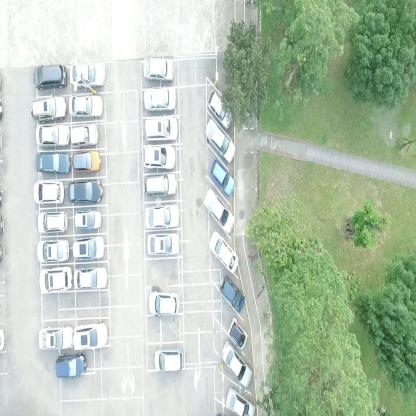car: (202, 187, 235, 234), (221, 341, 252, 388), (204, 118, 236, 162), (208, 231, 240, 274), (71, 320, 108, 350), (206, 88, 233, 128), (30, 94, 67, 123), (208, 158, 235, 196), (219, 275, 245, 313), (69, 61, 105, 88), (38, 324, 74, 351), (36, 236, 70, 264), (67, 178, 103, 204), (224, 386, 256, 415), (143, 170, 177, 197), (39, 265, 73, 292), (35, 122, 70, 148), (73, 265, 108, 291), (144, 204, 180, 229), (142, 143, 176, 169), (143, 86, 177, 112), (148, 290, 180, 317), (34, 62, 66, 89), (72, 235, 105, 261), (144, 115, 178, 140), (69, 94, 103, 119), (36, 209, 68, 235), (54, 352, 86, 378), (35, 152, 70, 175), (32, 180, 65, 204), (70, 122, 98, 150), (154, 346, 184, 372), (72, 149, 100, 176), (146, 233, 180, 255), (227, 316, 248, 350), (143, 59, 174, 82), (74, 210, 102, 230)
